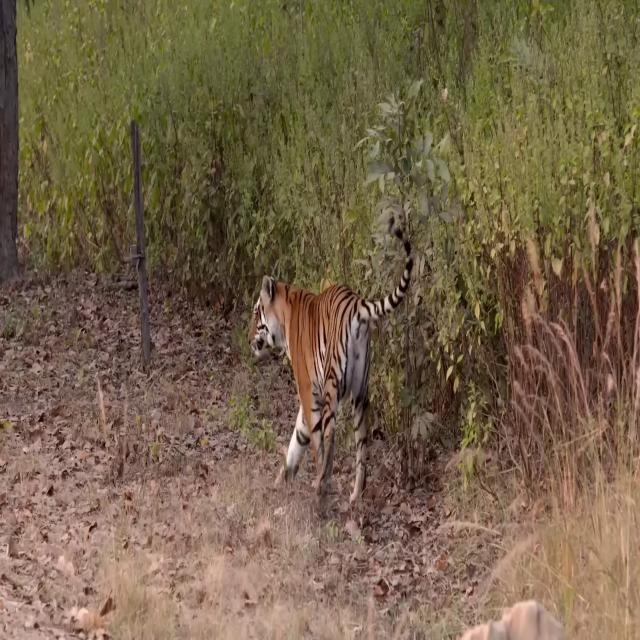tiger: (247, 225, 413, 503)
